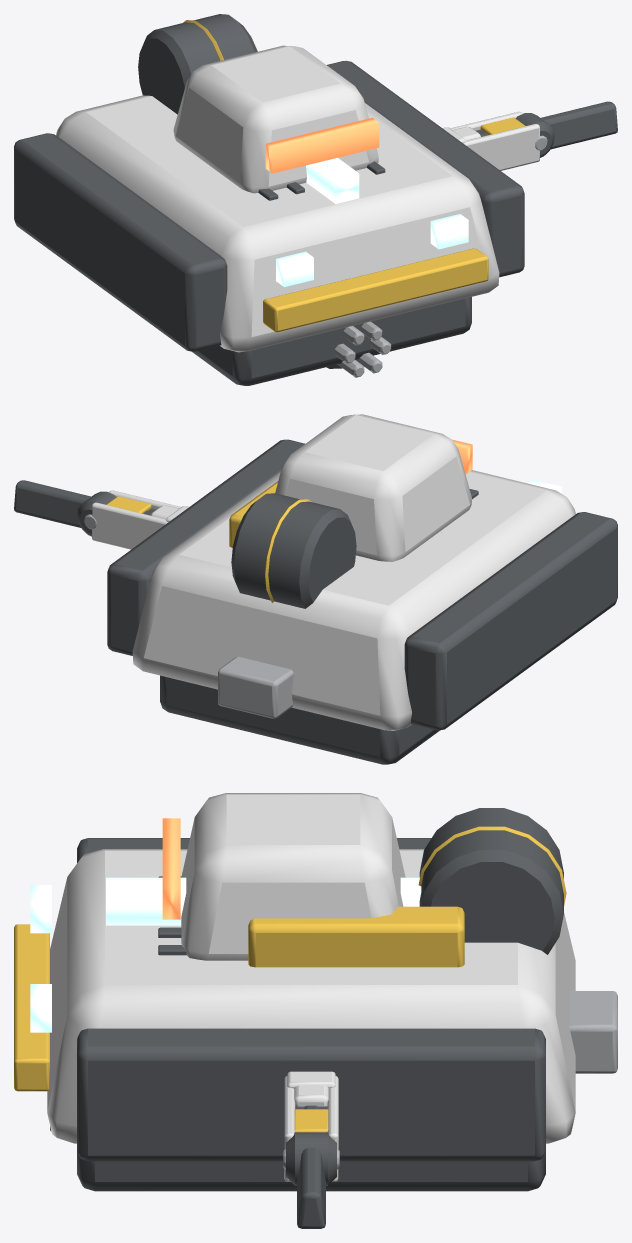
The model's file is auto.glb.
3 views of the same model, one above another, from view 1: azimuth 30°, elevation 25°; view 2: azimuth 150°, elevation 25°; view 3: azimuth 270°, elevation 25° (orthographic). The views are drawn at different scales.
Parts seen in each view (by area): view 1: Hull, Turret, LegUpper, LegLower, Barrel; view 2: Hull, Turret, LegUpper, LegLower; view 3: Hull, Turret, LegUpper, LegLower.
Part boxes in pixels (left/top/right/bottom): Hull: left=14, top=14, right=524, bottom=385; Turret: left=173, top=45, right=379, bottom=193; LegUpper: left=442, top=111, right=554, bottom=170; LegLower: left=453, top=101, right=617, bottom=149; Barrel: left=326, top=321, right=391, bottom=377; Hull: left=107, top=439, right=617, bottom=764; Turret: left=229, top=414, right=472, bottom=561; LegUpper: left=77, top=490, right=188, bottom=549; LegLower: left=14, top=480, right=178, bottom=527; Hull: left=14, top=808, right=617, bottom=1191; Turret: left=162, top=793, right=464, bottom=967; LegUpper: left=283, top=1071, right=339, bottom=1185; LegLower: left=294, top=1085, right=328, bottom=1228.
Size of the model in its own units: 0.865 by 0.395 by 0.67.
